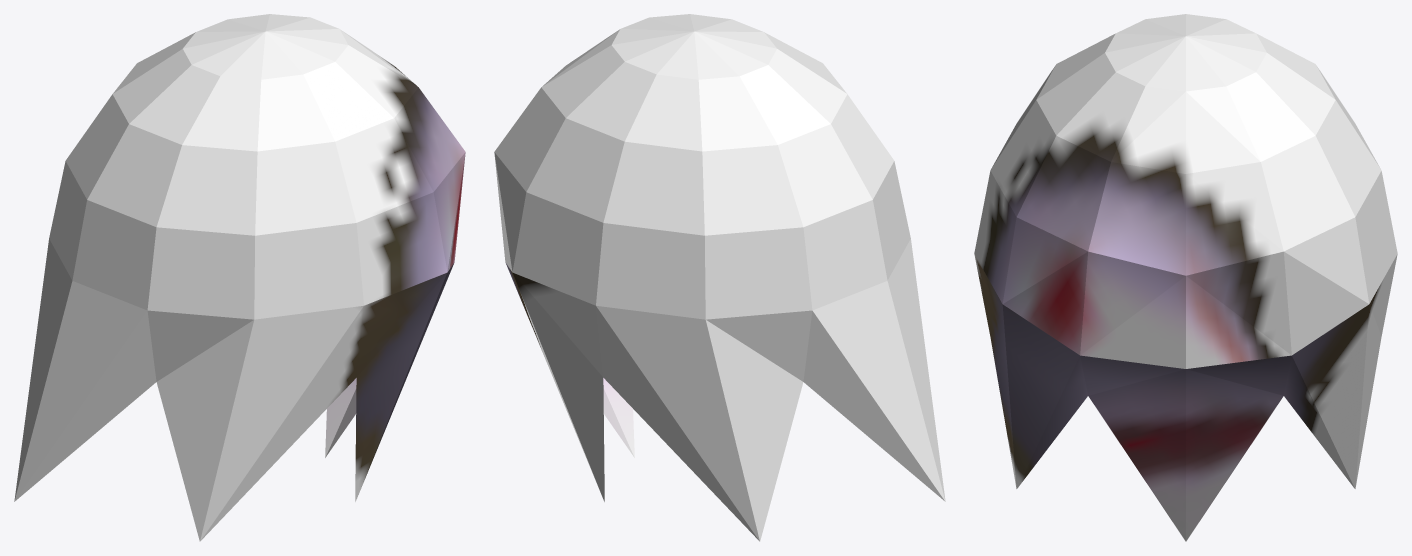
File: ghost.obj
The picture shows the model from 3 angles, left to right: view 1: azimuth 30°, elevation 25°; view 2: azimuth 150°, elevation 25°; view 3: azimuth 270°, elevation 25°; orthographic projection. The views are drawn at different scales.
Parts seen in each view (by area): view 1: Sphere; view 2: Sphere; view 3: Sphere.
Part boxes in pixels (box(x1,y1,x2,y2)): Sphere: box(14, 14, 465, 541); Sphere: box(494, 14, 945, 541); Sphere: box(974, 14, 1397, 541).
Size of the model in its own units: 2.18 by 2.18 by 1.77.
